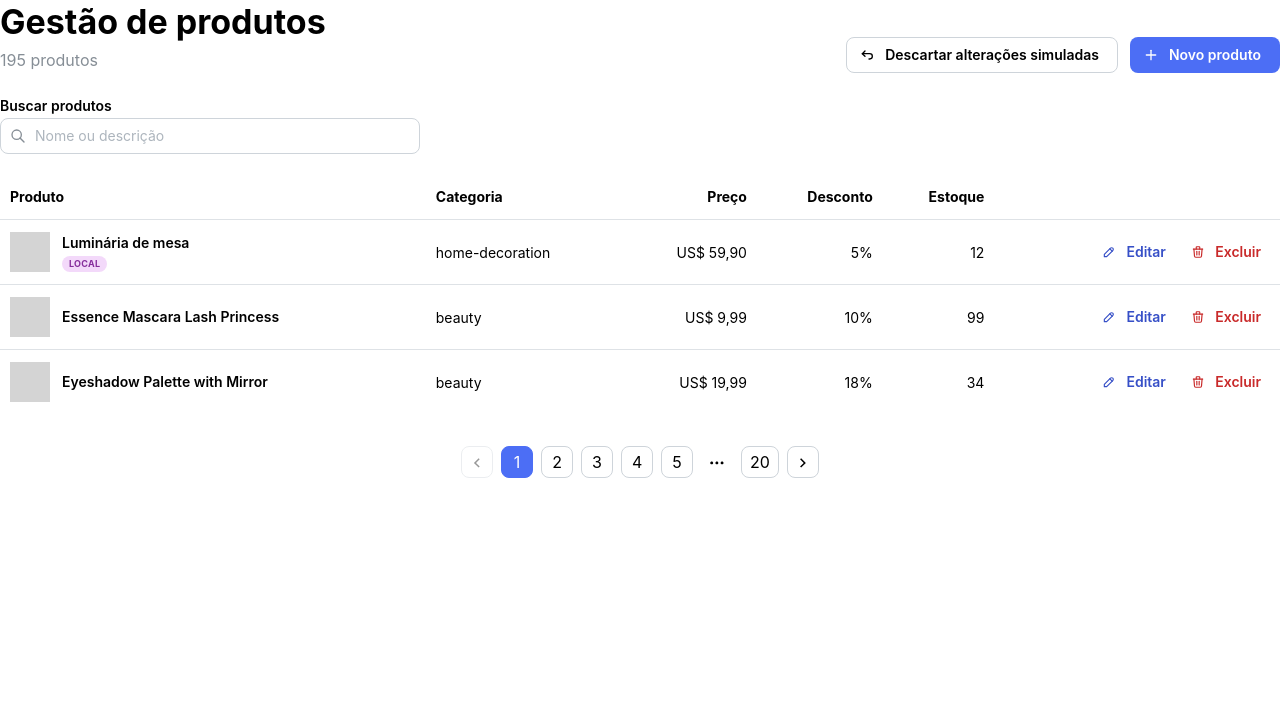
Test case: AdminProductsPage › descarta as alterações simuladas com confirmação
Check: the text "Luminária de mesa" is shown, box [62,233,189,254]
Click the button "Descartar alterações simuladas" at (982, 55), box [846,37,1118,73]
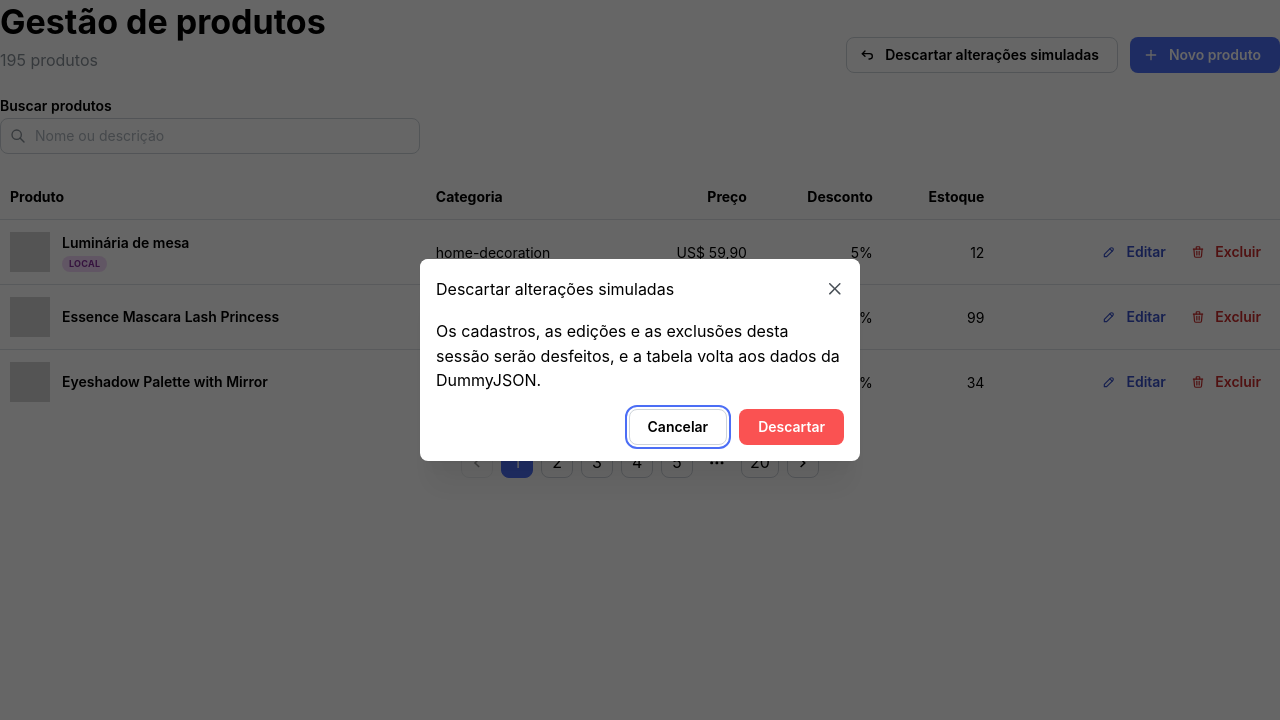
Click the button "Descartar" at (792, 427), box [739,409,844,445]
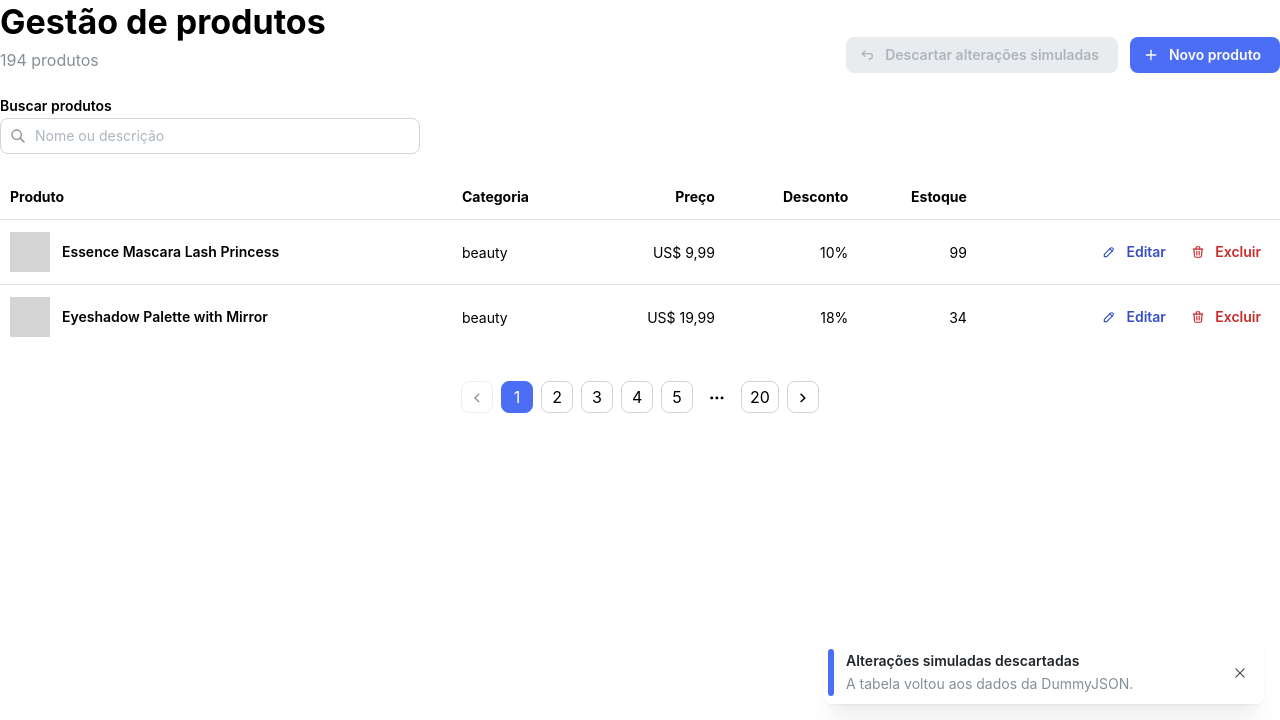
Check: the text "Luminária de mesa" is gone
Check: the text "Alterações simuladas descartadas" is shown, box [846,652,1079,669]
Check: the button "Descartar alterações simuladas" is disabled, box [846,37,1118,73]
